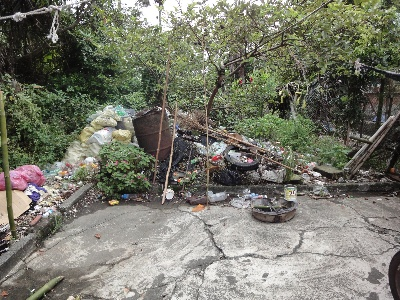bucket: (132, 108, 176, 159), (277, 184, 300, 203)
plastic_bag: (60, 105, 132, 164), (1, 165, 44, 192)
plate: (248, 192, 297, 223)
tire: (221, 140, 262, 173)
